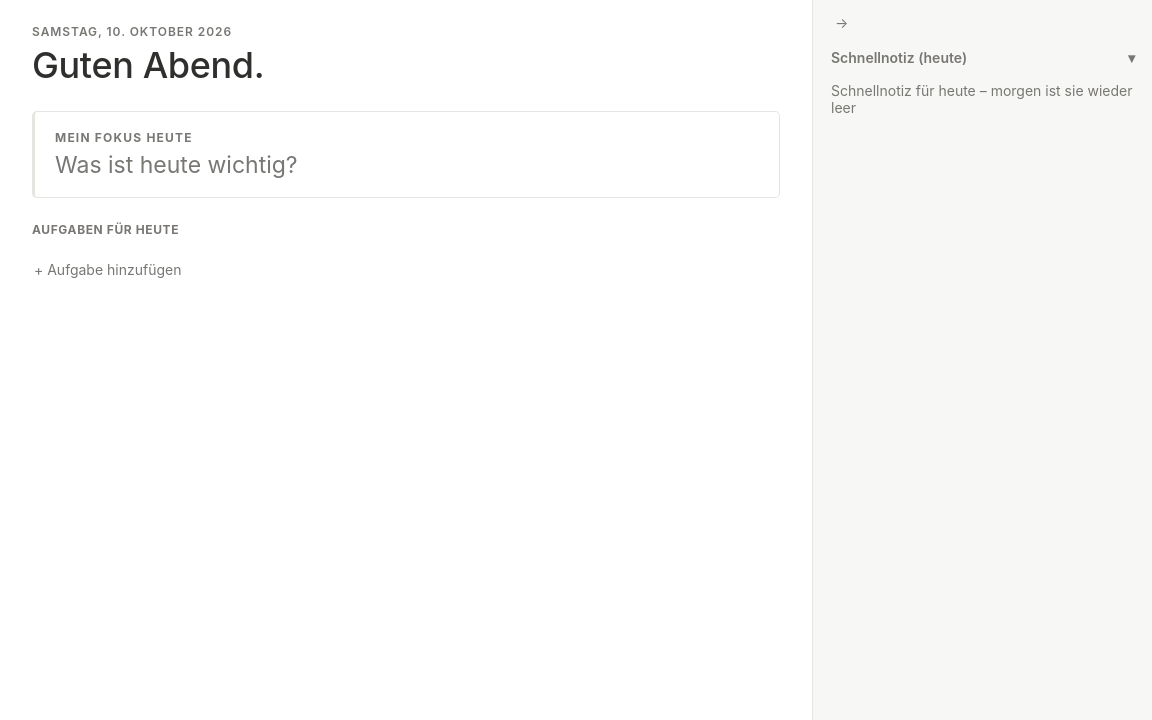
Test: HeuteView › meldet Speicherfehler sichtbar
The image size is (1152, 720).
Type "X" into the field labelled "Aufgabe hinzufügen" at point(406, 270), box [32,253,780,286]
Then press Enter
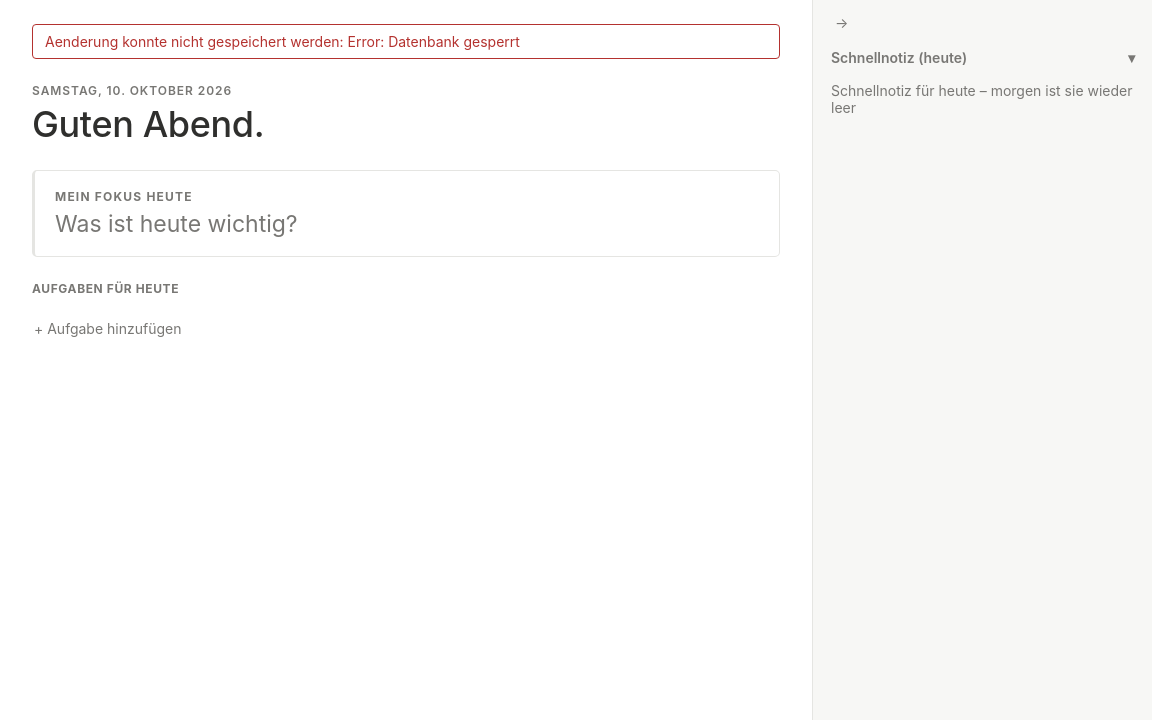
Expected: the message shows "Datenbank gesperrt", [45,33,520,50]
